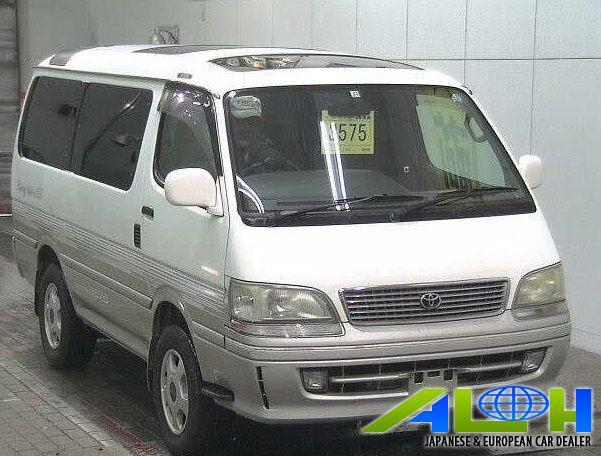van: (17, 40, 574, 425)
